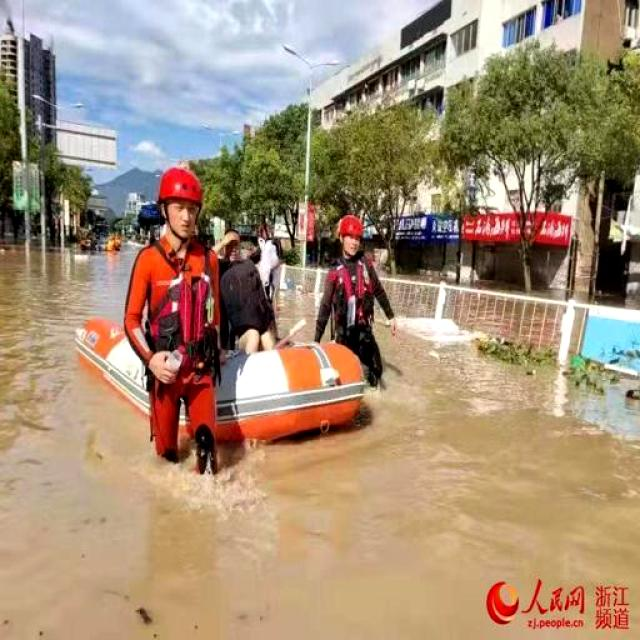civilian: (216, 217, 266, 354)
rescuer: (127, 162, 231, 484), (324, 206, 401, 412)
